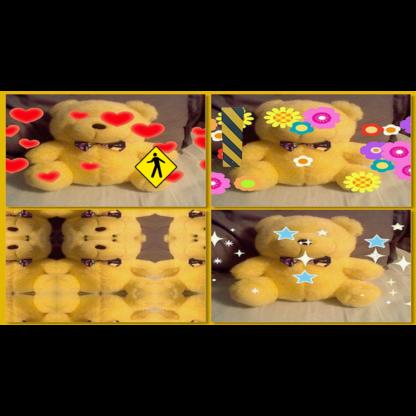A-32a: (134, 145, 177, 188)
O-MP: (221, 107, 244, 167)
